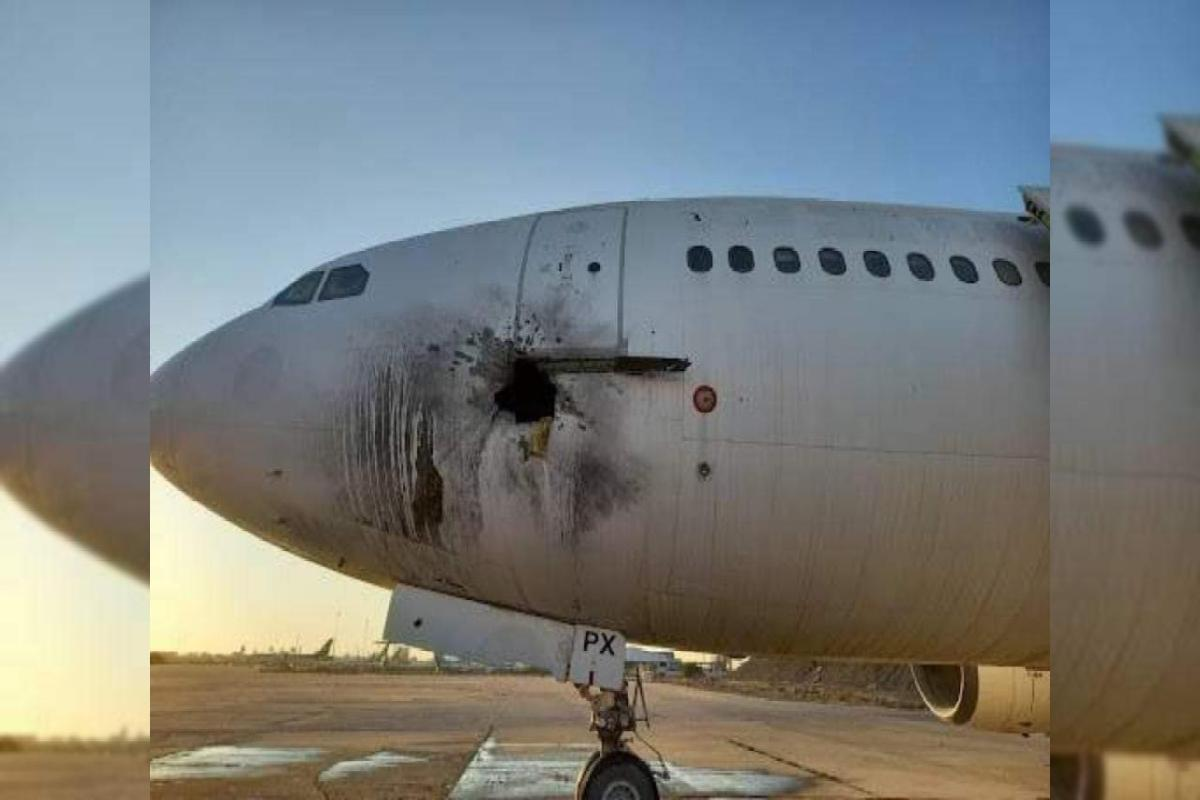Fuselage_damage: (469, 302, 689, 457), (493, 354, 558, 458), (409, 412, 443, 540), (493, 357, 556, 423), (517, 354, 691, 376)
